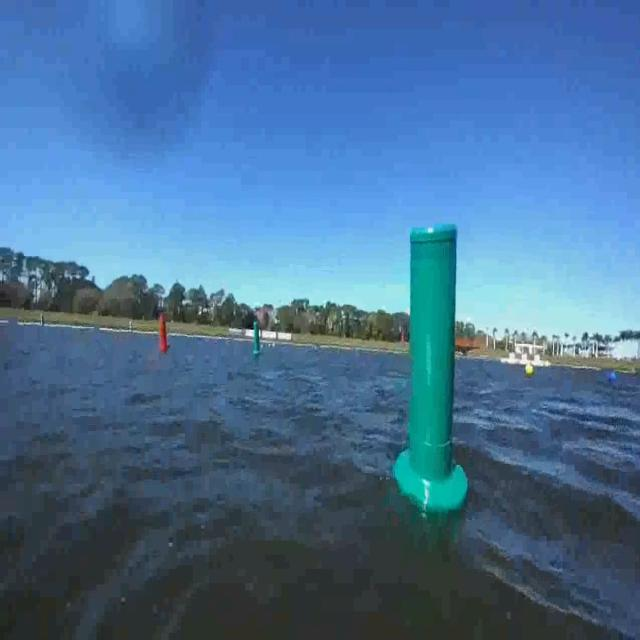blue-buoy: (610, 369, 620, 386)
green-column-buoy: (394, 223, 468, 513), (251, 320, 262, 356)
red-column-buoy: (157, 316, 168, 354)
yellow-buoy: (525, 362, 535, 377)
